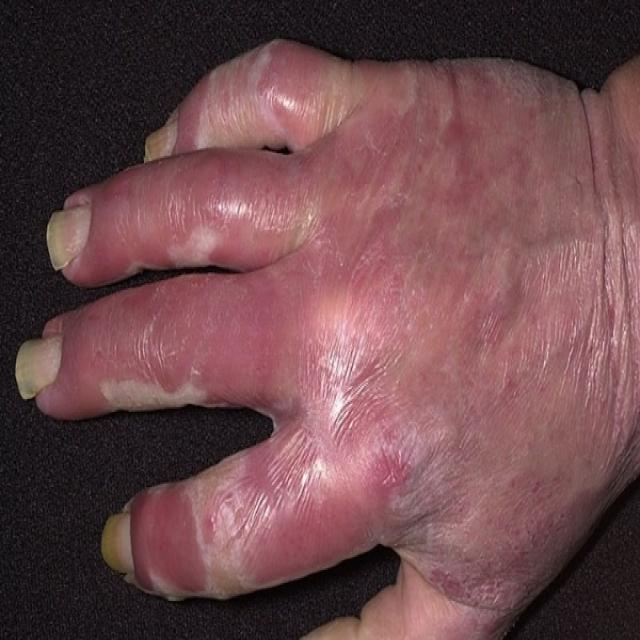Psoriasis Eritrodermica: (17, 41, 639, 638)
